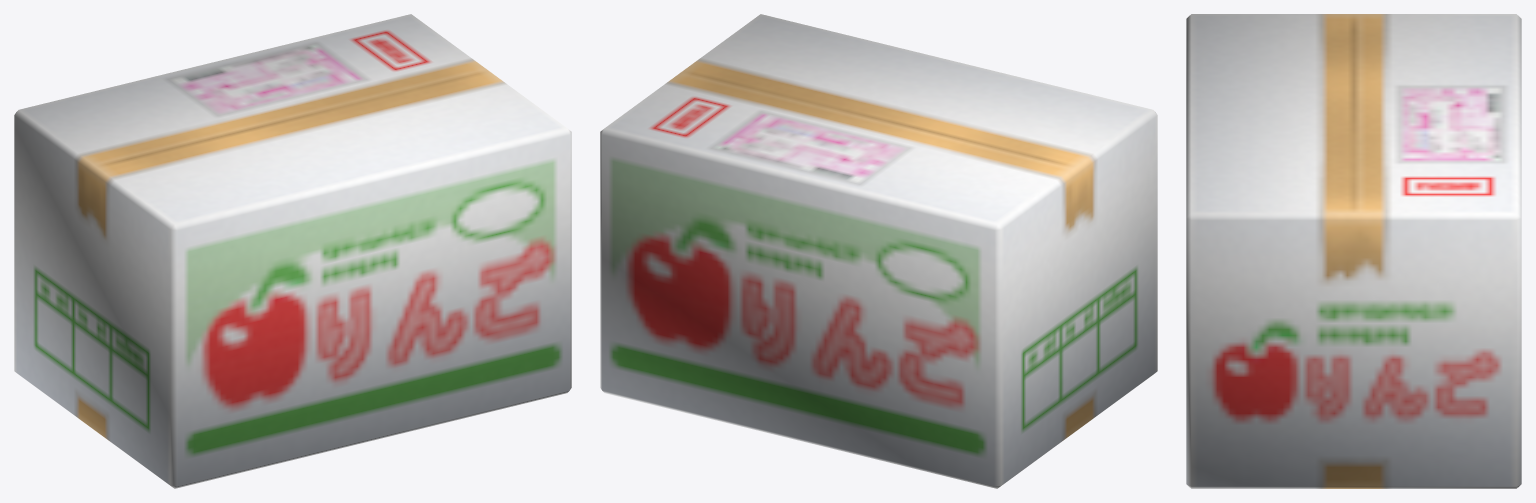
Rendered from KR_Cardboard_01_03.fbx.
3 renders of one model, left to right at view 1: azimuth 30°, elevation 25°; view 2: azimuth 150°, elevation 25°; view 3: azimuth 270°, elevation 25°, orthographic. The views are drawn at different scales.
Visible parts, largest first — view 1: kr_cardboard_01_03; view 2: kr_cardboard_01_03; view 3: kr_cardboard_01_03.
Boxes of the visible parts, left/top/right/bottom form: kr_cardboard_01_03: left=14, top=14, right=571, bottom=488; kr_cardboard_01_03: left=600, top=14, right=1157, bottom=488; kr_cardboard_01_03: left=1186, top=14, right=1521, bottom=488.
Bounding box in the file's own units: 46 × 29 × 32.
